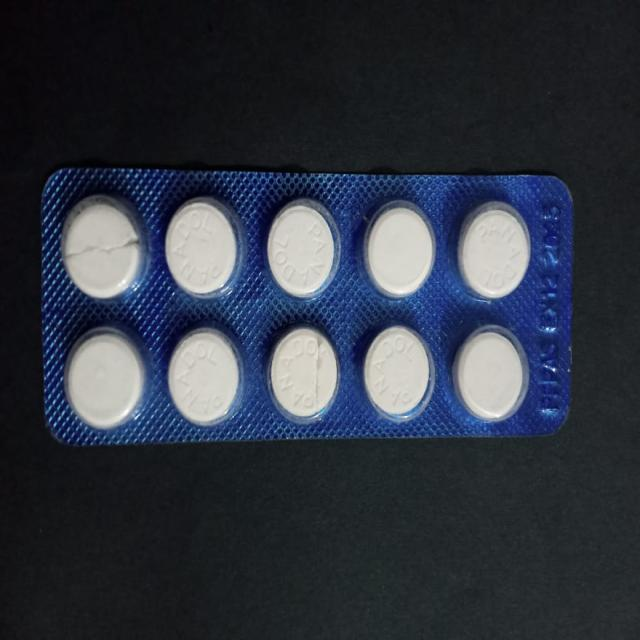defect: (58, 190, 150, 303), (266, 322, 344, 428)
